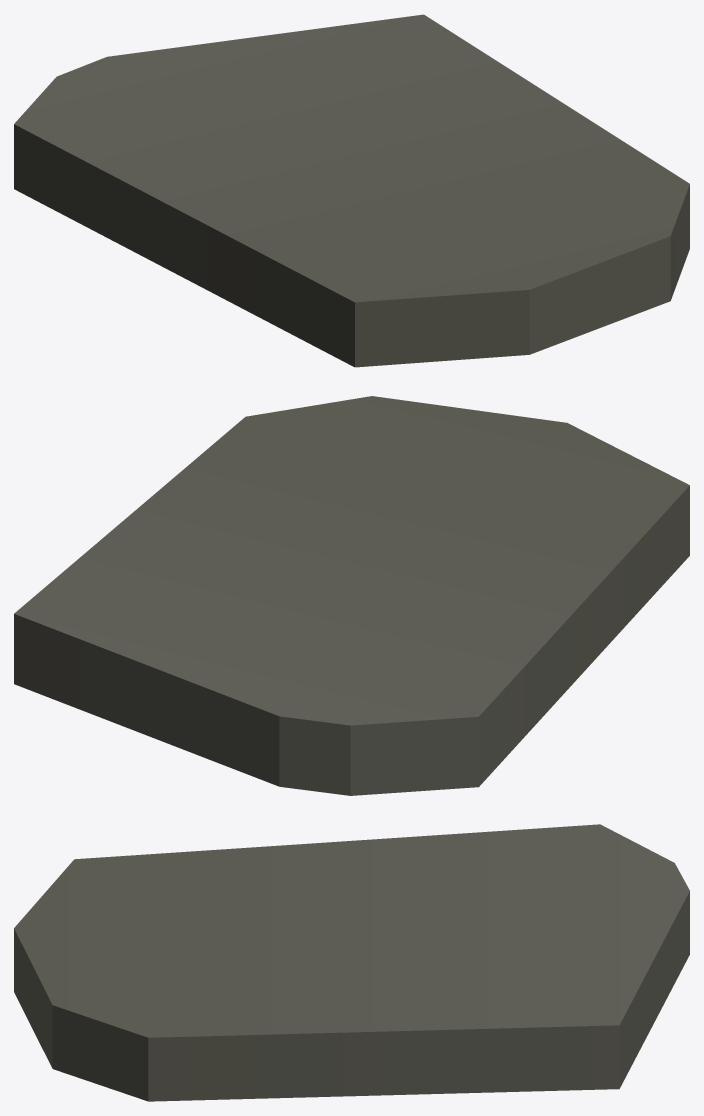
The model's file is Tile_02.fbx.
3 views of the same model, one above another, from view 1: azimuth 30°, elevation 25°; view 2: azimuth 150°, elevation 25°; view 3: azimuth 270°, elevation 25° (orthographic). The views are drawn at different scales.
Visible parts, largest first — view 1: Tile_02; view 2: Tile_02; view 3: Tile_02.
Boxes of the visible parts, left/top/right/bottom form: Tile_02: left=14, top=14, right=689, bottom=367; Tile_02: left=14, top=396, right=689, bottom=795; Tile_02: left=14, top=824, right=689, bottom=1101.
Bounding box in the file's own units: 0.27 × 0.0376 × 0.3612.
